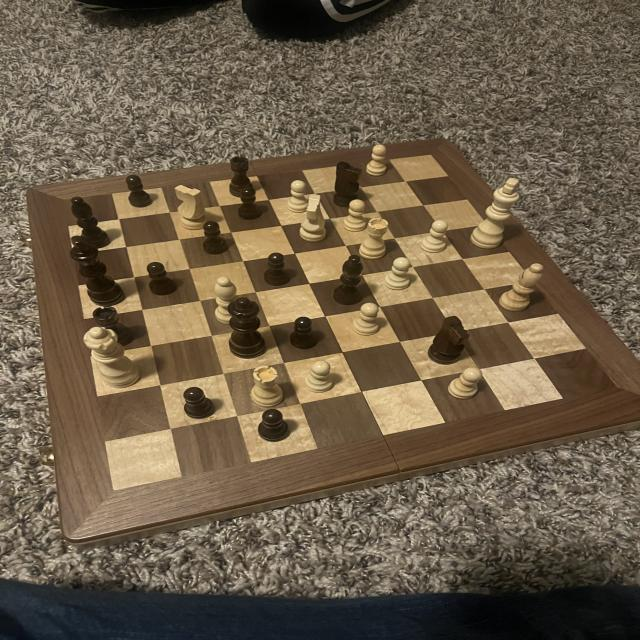bishop: (67, 193, 113, 249), (330, 252, 370, 304)
black-bishop: (69, 232, 128, 307)
black-king: (426, 311, 472, 368), (330, 159, 364, 207)
black-knight: (139, 260, 181, 299), (176, 385, 218, 423), (197, 219, 235, 257), (255, 408, 295, 444), (233, 184, 269, 221), (289, 314, 324, 352), (123, 172, 157, 210), (262, 255, 297, 291)
black-pawn: (227, 294, 274, 360)
black-queen: (87, 306, 141, 346), (227, 152, 260, 198)
black-rook: (496, 262, 547, 314), (209, 276, 248, 334)
white-bishop: (467, 177, 526, 255)
white-king: (171, 183, 211, 232), (297, 192, 329, 243)
white-knight: (445, 365, 485, 401), (302, 359, 341, 395), (419, 217, 452, 258), (350, 302, 384, 338), (341, 197, 371, 234), (384, 255, 414, 292), (286, 178, 315, 214), (364, 143, 392, 178)
white-pawn: (80, 324, 147, 391)
white-queen: (247, 364, 288, 408), (357, 216, 396, 262)
